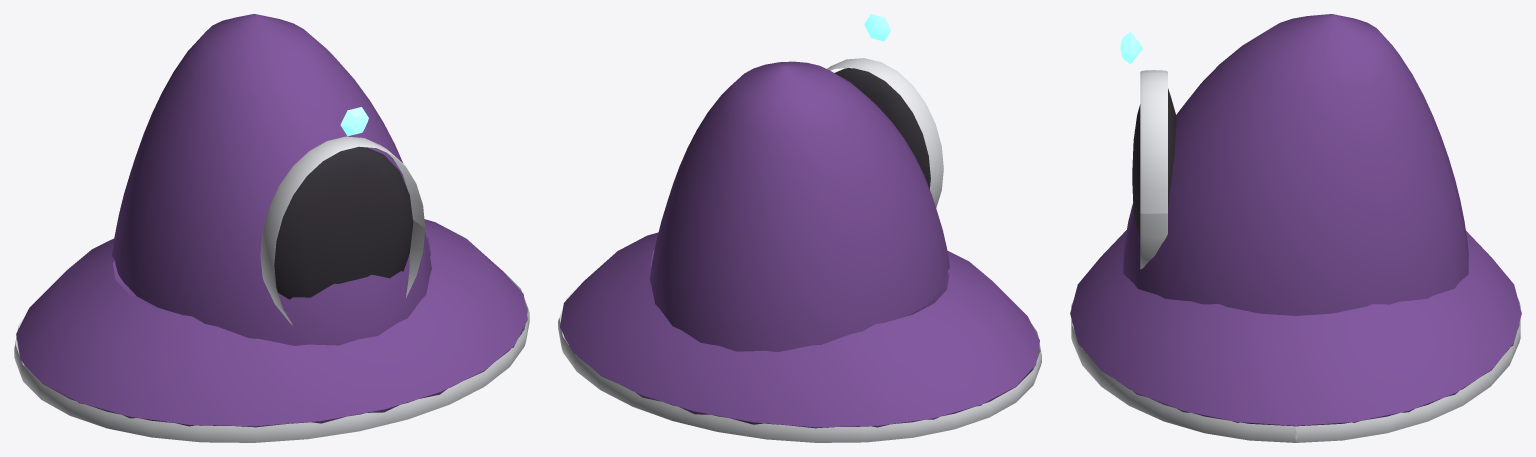
File: depth_prismkeeper_crown.glb
3 views of the same model, side by side, from view 1: azimuth 30°, elevation 25°; view 2: azimuth 150°, elevation 25°; view 3: azimuth 270°, elevation 25° (orthographic). The views are drawn at different scales.
Parts seen in each view (by area): view 1: depth_prismkeeper_crown; view 2: depth_prismkeeper_crown; view 3: depth_prismkeeper_crown.
Part boxes in pixels (<box>): depth_prismkeeper_crown: <box>14,14,529,442</box>; depth_prismkeeper_crown: <box>558,14,1041,442</box>; depth_prismkeeper_crown: <box>1070,14,1521,442</box>.
Size of the model in its own units: 0.4532 by 0.2938 by 0.3825.
